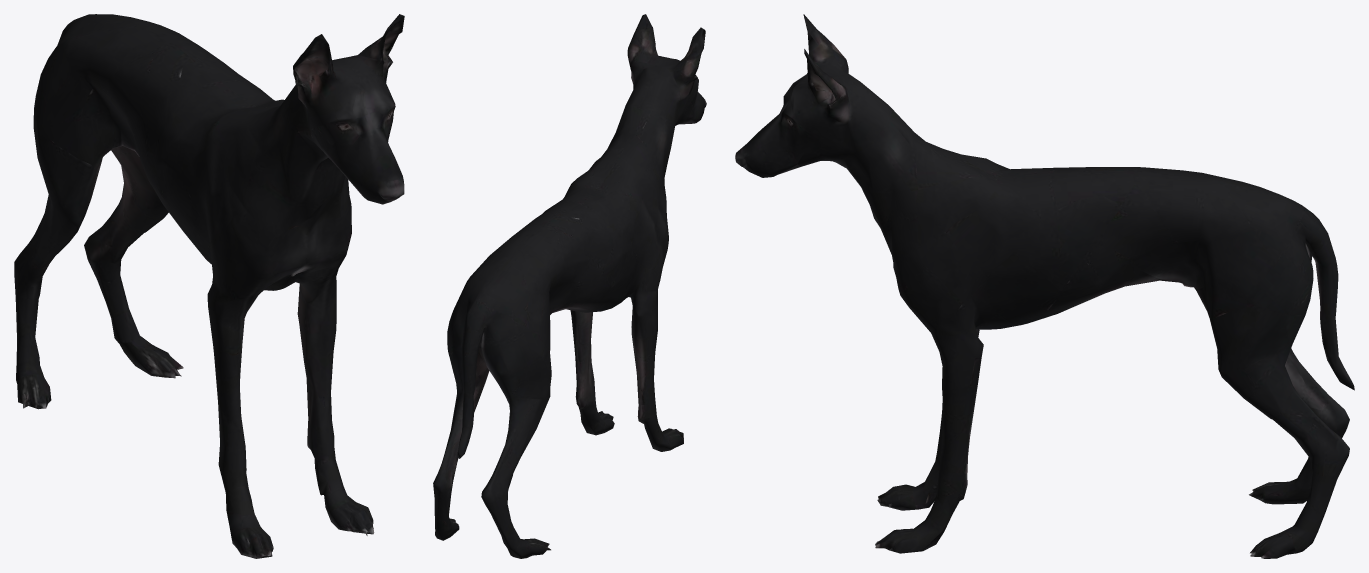
File: hund_schwarz.glb
The picture shows the model from 3 angles, left to right: view 1: azimuth 30°, elevation 25°; view 2: azimuth 150°, elevation 25°; view 3: azimuth 270°, elevation 25°; orthographic projection. The views are drawn at different scales.
Bounding box in the file's own units: 0.5035 × 1.66 × 1.89.
Materials: 1 (1 with a texture image).
